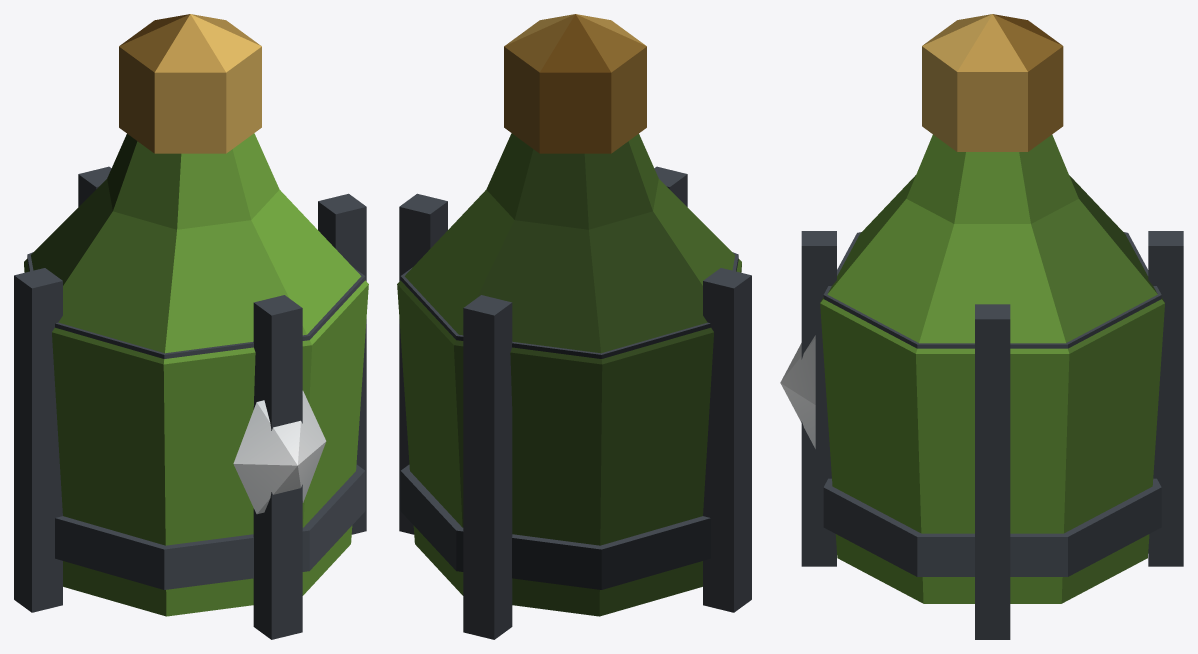
Rendered from uniq_phylactery.gltf.
3 renders of one model, left to right at view 1: azimuth 30°, elevation 25°; view 2: azimuth 150°, elevation 25°; view 3: azimuth 270°, elevation 25°, orthographic.
Visible parts, largest first — view 1: uniq_phylactery; view 2: uniq_phylactery; view 3: uniq_phylactery.
Part boxes in pixels (box(x1,y1,x2,y2)): uniq_phylactery: box(14, 14, 368, 639); uniq_phylactery: box(397, 14, 751, 639); uniq_phylactery: box(780, 14, 1183, 639).
Bounding box in the file's own units: 0.216 × 0.34 × 0.228.
1 material, 1 textured.
